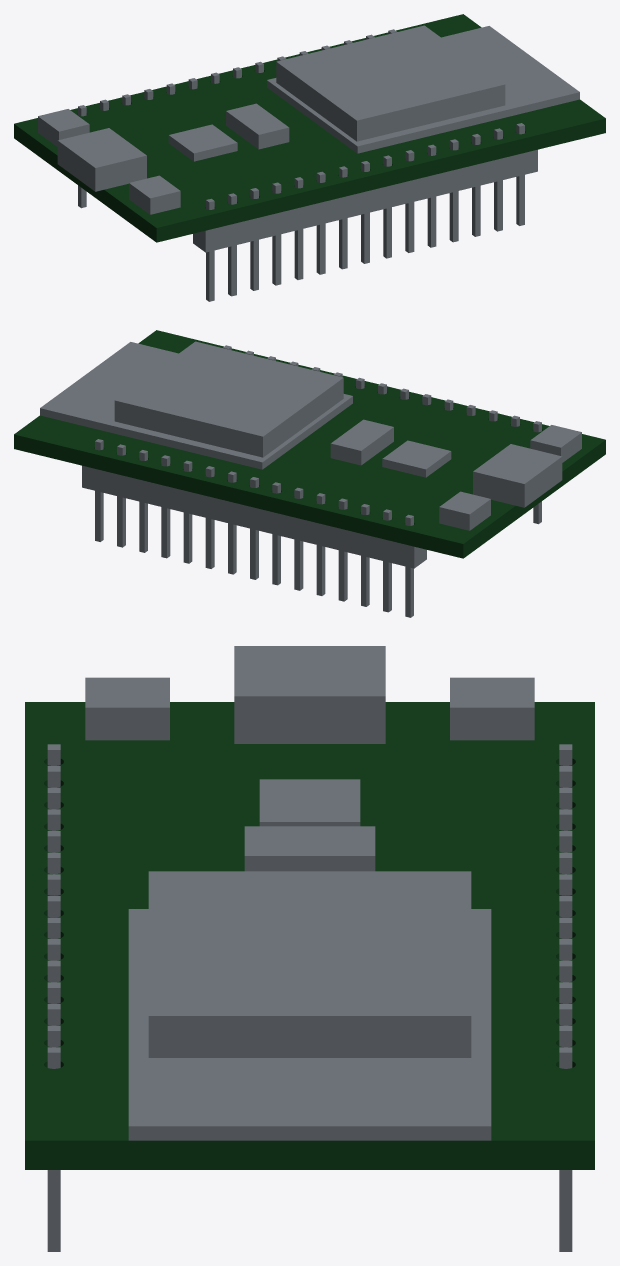
The model's file is esp32_devkit.glb.
3 renders of one model, top to bottom at view 1: azimuth 30°, elevation 25°; view 2: azimuth 150°, elevation 25°; view 3: azimuth 270°, elevation 25°, orthographic. The views are drawn at different scales.
Parts seen in each view (by area): view 1: Fillet, WROOM32_Shield, PCB, WROOM32_PCB, Header1_Housing, MicroUSB, Regulator, USB_UART_IC, Button_EN, Button_BOOT, Header1_Pin11, Header1_Pin04 (+13 smaller); view 2: Fillet, WROOM32_Shield, WROOM32_PCB, Header2_Housing, PCB, MicroUSB, Regulator, USB_UART_IC, Button_BOOT, Button_EN, Header2_Pin11, Header2_Pin04 (+13 smaller); view 3: Fillet, WROOM32_Shield, WROOM32_PCB, PCB, MicroUSB, Regulator, Button_BOOT, Button_EN, USB_UART_IC, Header2_Pin15, Header1_Pin15.
Part boxes in pixels (x1,y1,x2,y2): Fillet: [25, 18, 594, 235]; WROOM32_Shield: [276, 25, 505, 141]; PCB: [14, 14, 605, 242]; WROOM32_PCB: [267, 26, 579, 153]; Header1_Housing: [193, 149, 537, 252]; MicroUSB: [57, 128, 146, 191]; Regulator: [226, 103, 289, 149]; USB_UART_IC: [168, 124, 237, 161]; Button_EN: [129, 175, 180, 214]; Button_BOOT: [38, 109, 89, 146]; Header1_Pin11: [427, 144, 436, 247]; Header1_Pin04: [272, 182, 281, 285]; Fillet: [25, 334, 594, 551]; WROOM32_Shield: [114, 341, 343, 457]; WROOM32_PCB: [40, 342, 352, 469]; Header2_Housing: [82, 465, 426, 568]; PCB: [14, 330, 605, 558]; MicroUSB: [473, 444, 562, 507]; Regulator: [330, 419, 393, 465]; USB_UART_IC: [382, 440, 451, 477]; Button_BOOT: [439, 491, 490, 530]; Button_EN: [530, 425, 581, 462]; Header2_Pin11: [183, 460, 192, 563]; Header2_Pin04: [338, 498, 347, 601]; Fillet: [25, 702, 594, 1169]; WROOM32_Shield: [148, 871, 471, 1057]; WROOM32_PCB: [128, 909, 491, 1140]; PCB: [25, 702, 594, 1169]; MicroUSB: [234, 646, 385, 743]; Regulator: [244, 826, 375, 871]; Button_BOOT: [450, 677, 534, 740]; Button_EN: [85, 677, 169, 740]; USB_UART_IC: [259, 779, 360, 826]; Header2_Pin15: [559, 1047, 572, 1251]; Header1_Pin15: [47, 1047, 60, 1251].
Size of the model in its own units: 0.0525 by 0.0132 by 0.0283.
